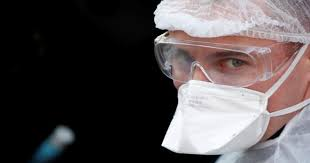with_mask: (160, 19, 292, 150)
